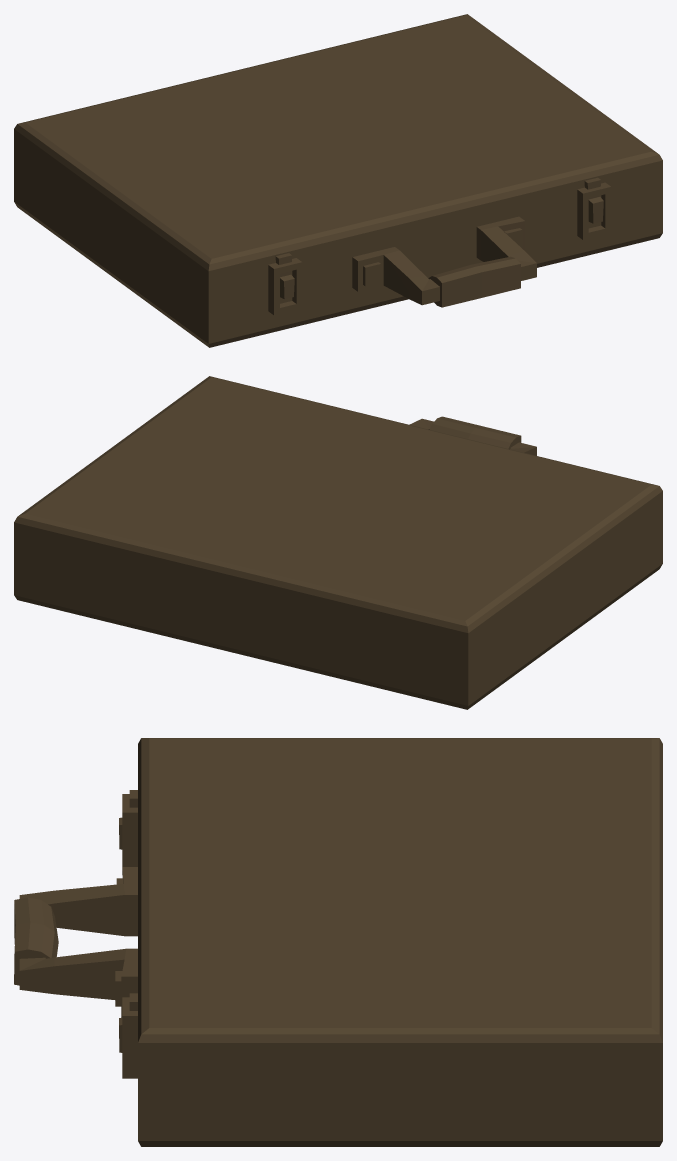
Rendered from bag.fbx.
3 views of the same model, one above another, from view 1: azimuth 30°, elevation 25°; view 2: azimuth 150°, elevation 25°; view 3: azimuth 270°, elevation 25° (orthographic). The views are drawn at different scales.
Visible parts, largest first — view 1: bag; view 2: bag; view 3: bag.
Part boxes in pixels (x1=…): bag: x1=14, y1=14, x2=662, y2=347; bag: x1=14, y1=376, x2=662, y2=709; bag: x1=14, y1=738, x2=662, y2=1146.
Size of the model in its own units: 64.5 by 11.91 by 59.14.
